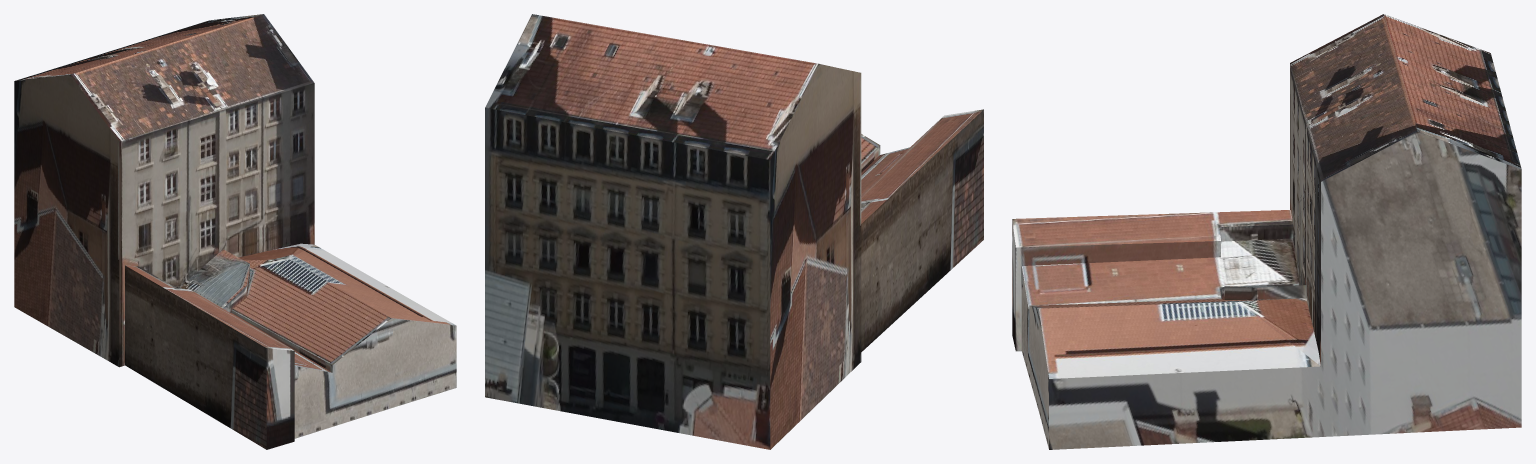
3 views of the same model, side by side, from view 1: azimuth 30°, elevation 25°; view 2: azimuth 150°, elevation 25°; view 3: azimuth 270°, elevation 25° (orthographic). The views are drawn at different scales.
Visible parts, largest first — view 1: Z_UP; view 2: Z_UP; view 3: Z_UP.
Part boxes in pixels (left/top/right/bottom): Z_UP: left=14, top=14, right=456, bottom=449; Z_UP: left=485, top=14, right=983, bottom=449; Z_UP: left=1012, top=14, right=1521, bottom=449.
Size of the model in its own units: 22.61 by 22.94 by 35.05.
Materials: 2 (1 with a texture image).
